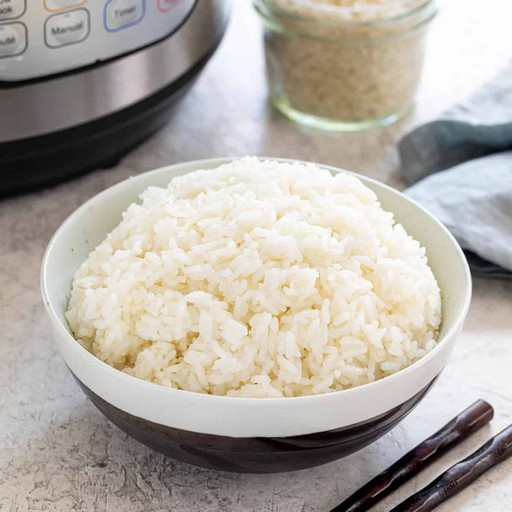rice: (149, 228, 340, 325)
